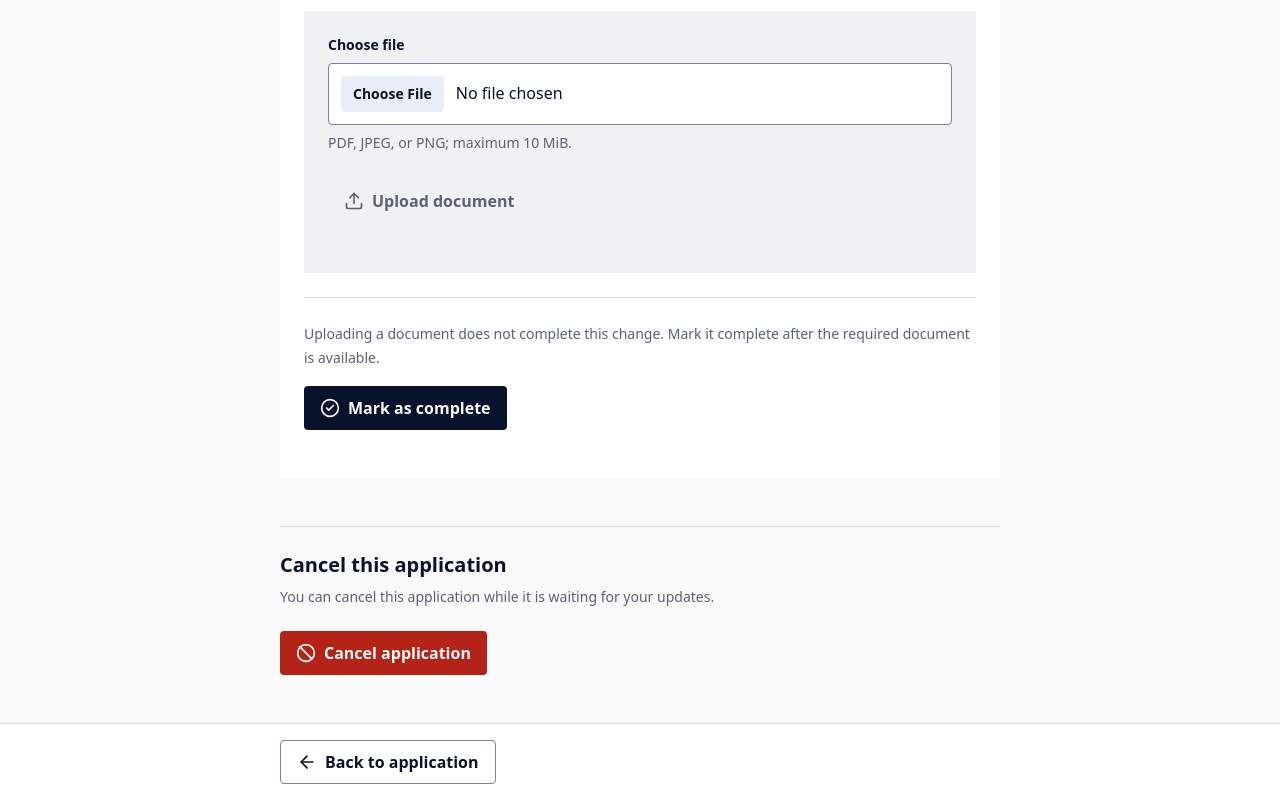
Test case: FE-CP8 Customer corrections › keeps proof-missing tasks open and refreshes authoritative state
(page scrolled)
Click the button "Mark as complete" at x=405, y=408, box [304,386,507,430]
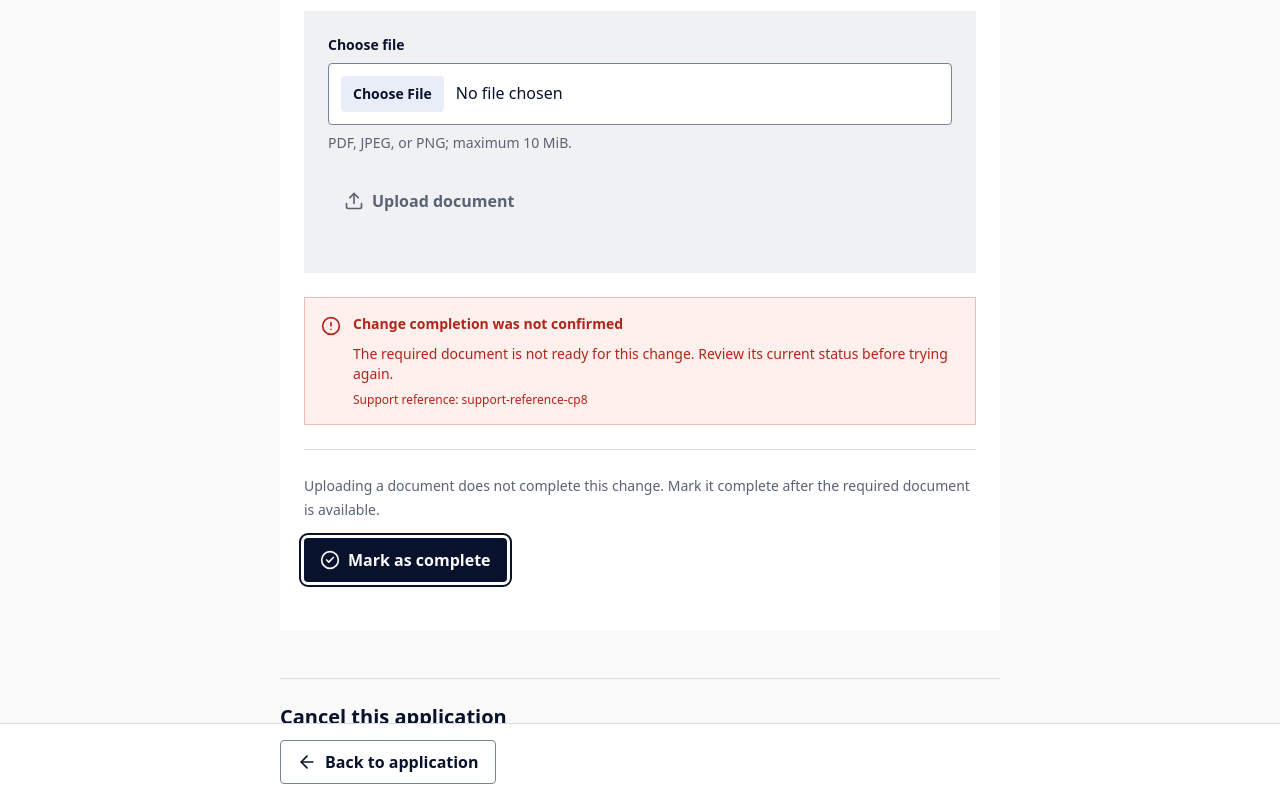
Expected: the button "Mark as complete" is shown, [304,538,507,582]
Now the text "required document is not ready" is shown, box [353,344,948,383]
